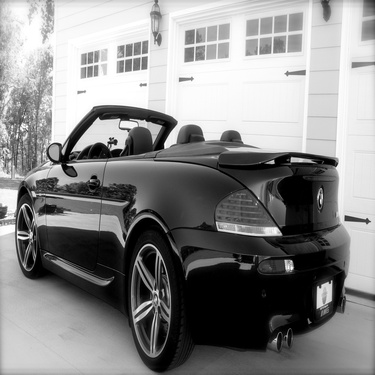car: (11, 95, 352, 370)
